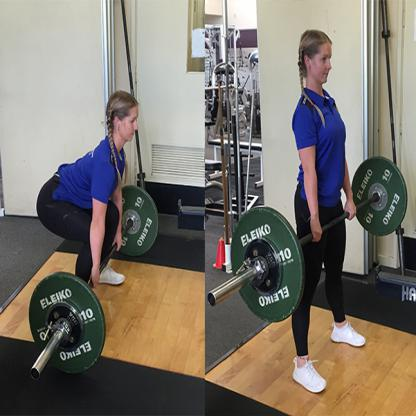Barbell: (224, 202, 306, 324), (28, 268, 108, 376), (348, 152, 410, 239)
